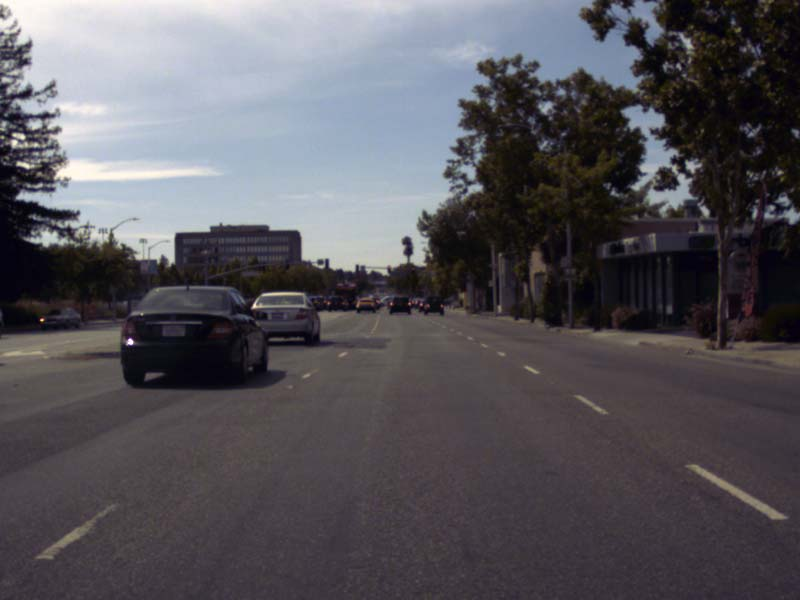Red: (387, 265, 391, 273), (411, 266, 415, 274)
